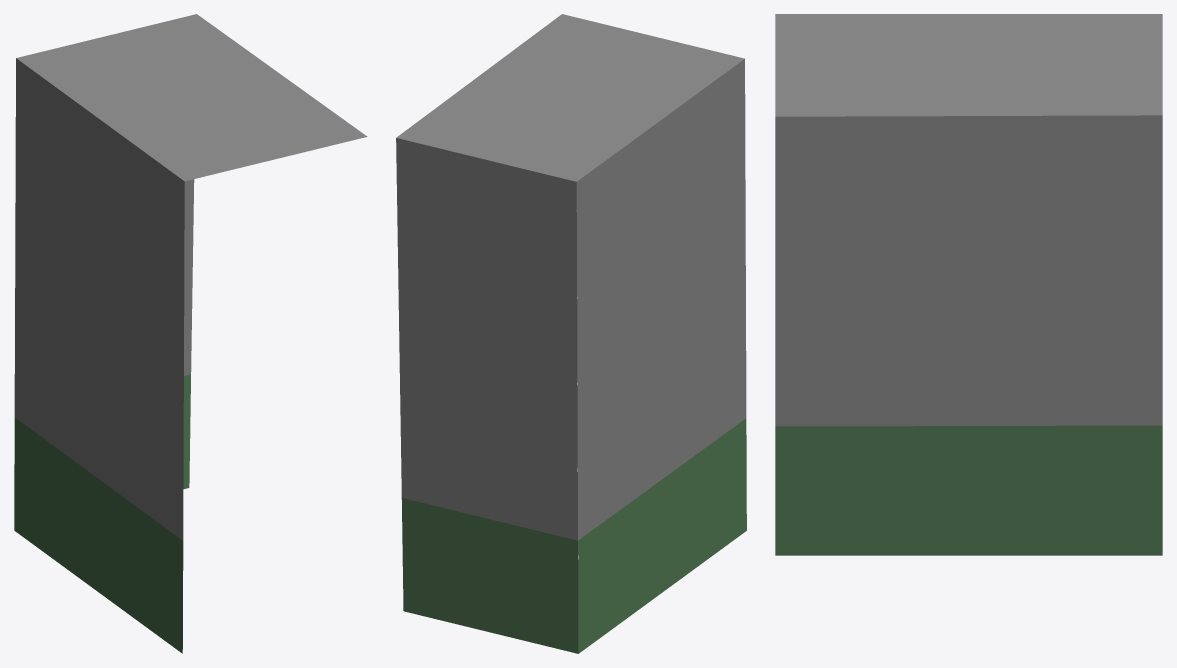
The model's file is mapa9.fbx.
3 renders of one model, left to right at view 1: azimuth 30°, elevation 25°; view 2: azimuth 150°, elevation 25°; view 3: azimuth 270°, elevation 25°, orthographic. The views are drawn at different scales.
Parts seen in each view (by area): view 1: pPlane10; view 2: pPlane10; view 3: pPlane10.
Boxes of the visible parts, box(x1,y1,x2,y2) form: pPlane10: box(14, 14, 367, 653); pPlane10: box(396, 14, 746, 653); pPlane10: box(775, 14, 1162, 555).
Bounding box in the file's own units: 3.46 × 8.44 × 5.46.
